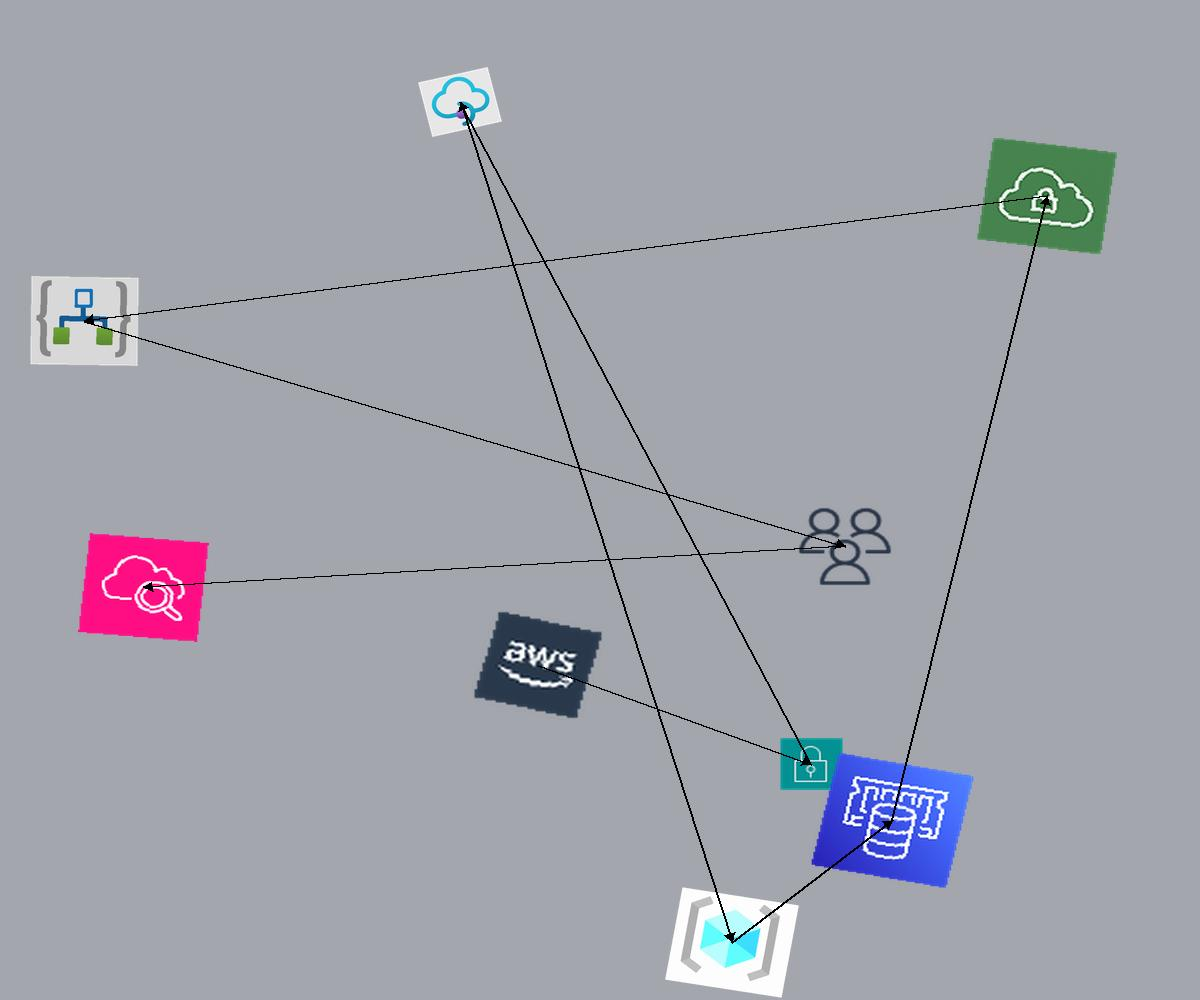AWS-Cloud-logo: (472, 610, 604, 720)
AWS-CloudWatch: (78, 533, 209, 642)
AWS-ElastiCache: (810, 752, 975, 889)
AWS-Private-subnet: (779, 737, 844, 791)
AWS-Private_vpc: (976, 137, 1118, 255)
AWS-Res_Users: (793, 503, 897, 590)
Azure_api_gateway: (418, 67, 502, 137)
Azure_integration-204-Logic-Apps: (30, 276, 139, 366)
Azure_resource_group: (665, 887, 799, 998)
